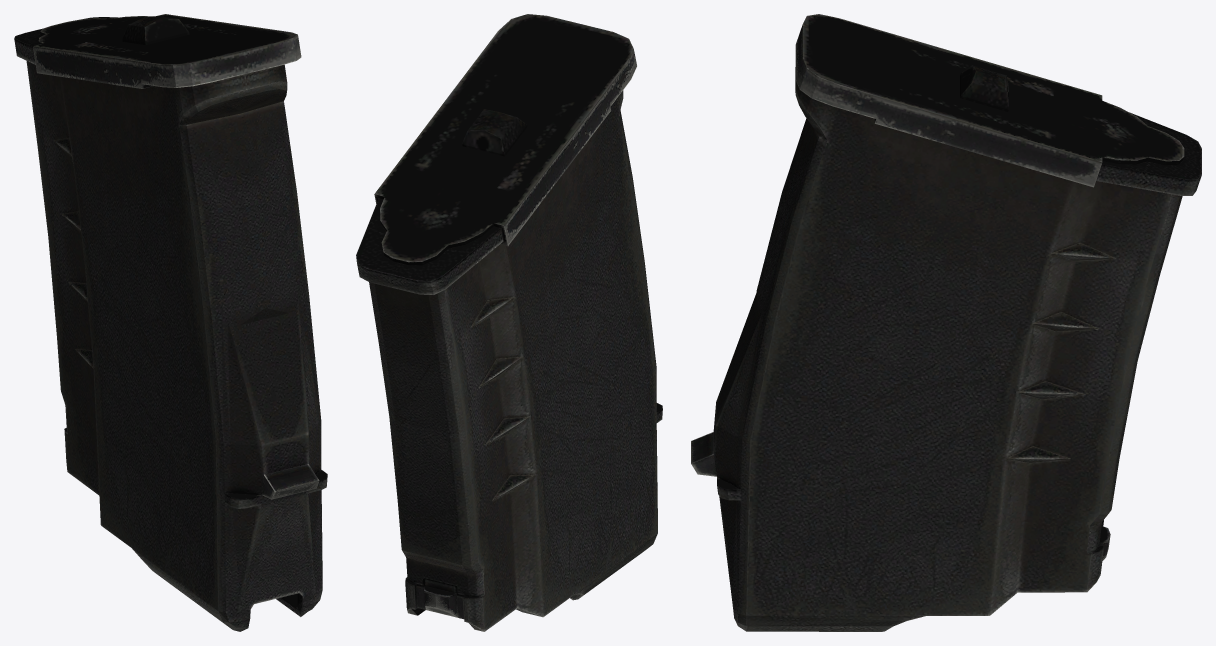
3 renders of one model, left to right at view 1: azimuth 30°, elevation 25°; view 2: azimuth 150°, elevation 25°; view 3: azimuth 270°, elevation 25°, orthographic. The views are drawn at different scales.
Visible parts, largest first — view 1: TW_55d4837c4bdc2d1d4e8b456c_PZ_Import; view 2: TW_55d4837c4bdc2d1d4e8b456c_PZ_Import; view 3: TW_55d4837c4bdc2d1d4e8b456c_PZ_Import.
Boxes of the visible parts, x1,y1,x2,y2 form: TW_55d4837c4bdc2d1d4e8b456c_PZ_Import: (14,14,327,631); TW_55d4837c4bdc2d1d4e8b456c_PZ_Import: (356,14,662,631); TW_55d4837c4bdc2d1d4e8b456c_PZ_Import: (691,14,1201,631).
Bounding box in the file's own units: 0.0162 × 0.052 × 0.0647.
1 material, 1 textured.
